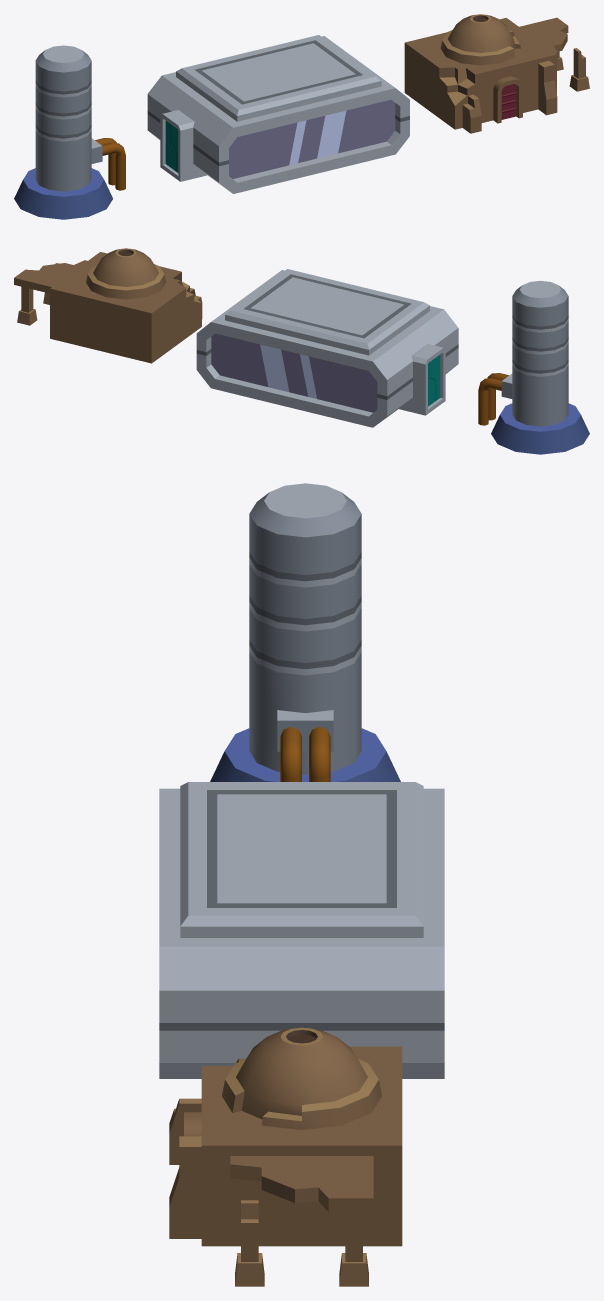
The model's file is Domiki_Space.fbx.
3 views of the same model, one above another, from view 1: azimuth 30°, elevation 25°; view 2: azimuth 150°, elevation 25°; view 3: azimuth 270°, elevation 25° (orthographic). The views are drawn at different scales.
Visible parts, largest first — view 1: SM_DL_DOMIK_Space, SM_DL_RUINS_Space, SM_DL_Kanistra_Space; view 2: SM_DL_DOMIK_Space, SM_DL_RUINS_Space, SM_DL_Kanistra_Space; view 3: SM_DL_DOMIK_Space, SM_DL_RUINS_Space, SM_DL_Kanistra_Space.
Part boxes in pixels (x1,y1,x2,y2): SM_DL_DOMIK_Space: (147,35,409,193); SM_DL_RUINS_Space: (404,14,589,133); SM_DL_Kanistra_Space: (14,45,125,219); SM_DL_DOMIK_Space: (196,269,458,427); SM_DL_RUINS_Space: (14,248,202,363); SM_DL_Kanistra_Space: (478,280,589,454); SM_DL_DOMIK_Space: (159,782,444,1078); SM_DL_RUINS_Space: (169,1027,402,1286); SM_DL_Kanistra_Space: (210,483,400,781).
Bounding box in the file's own units: 17.46 × 4.39 × 3.9.
